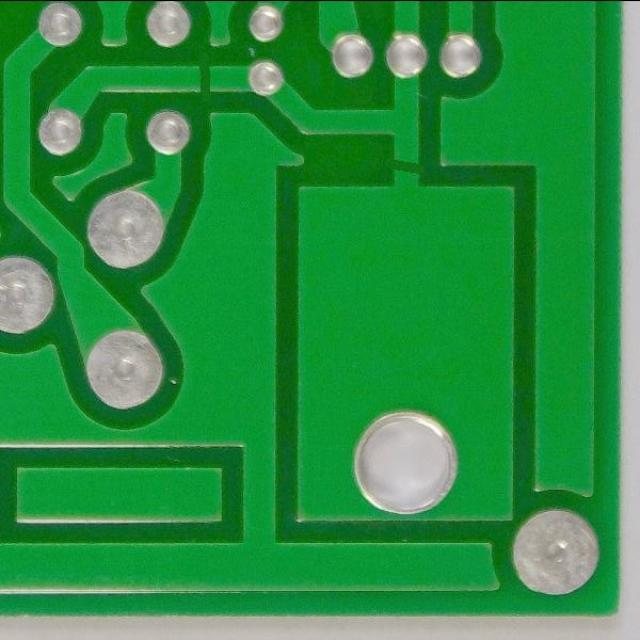open_circuit: (385, 149, 429, 186), (190, 52, 220, 104)
